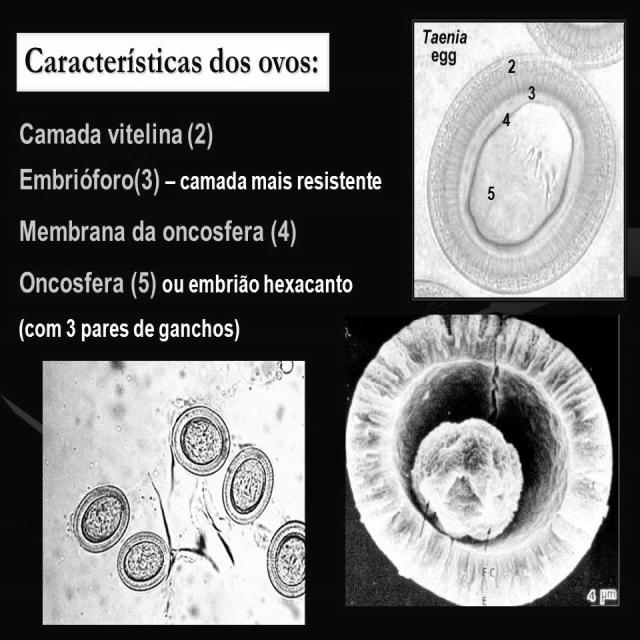Taenia Sp: (420, 54, 621, 290), (169, 404, 232, 482), (65, 482, 133, 554), (220, 445, 277, 523), (116, 523, 172, 593), (262, 520, 304, 602)
